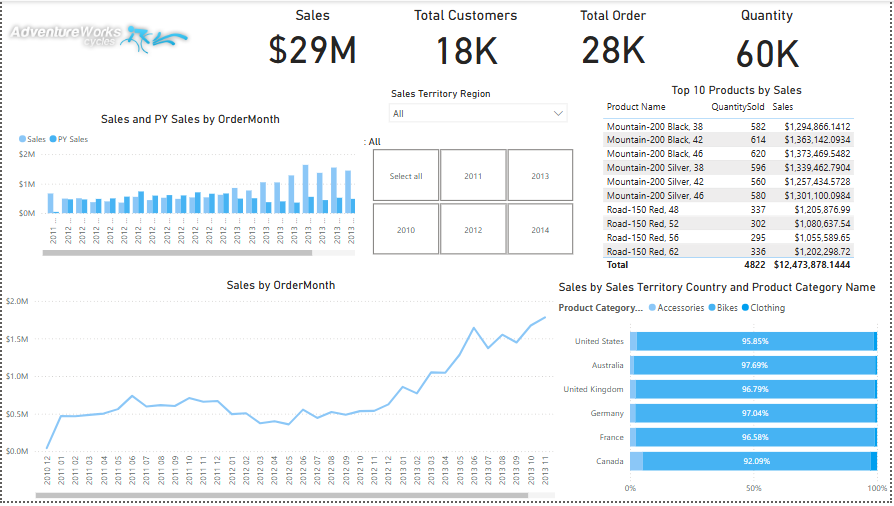

What the dashboard file says about the page in this screenshot:
{"tool":"powerbi","page":{"name":"Sales Dashboard","canvas":[1280,720],"ordinal":0},"visuals":[{"type":"image","box":[0,0,278.8,112.5],"z":0},{"type":"card","title":"Sales","fields":{"Values":["Calc.Sales"]},"box":[357.1,8.6,180,86.4],"z":1000},{"type":"card","title":"Total Order","fields":{"Values":["Calc.OrderCount"]},"box":[792,8.6,175.7,87.8],"z":2000},{"type":"card","title":"Quantity","fields":{"Values":["Calc.QuantitySold"]},"box":[1010.9,8.6,181.4,97.9],"z":3000},{"type":"tableEx","title":"Top 10 Products by Sales","fields":{"Values":["Product.EnglishProductName","Calc.QuantitySold","Calc.Sales"]},"box":[860,118.3,396.7,283.3],"z":4000},{"type":"lineChart","fields":{"Y":["Calc.Sales"],"Category":["Order Date.OrderMonth"]},"box":[0,398.3,803.3,321.7],"z":5000},{"type":"clusteredColumnChart","fields":{"Y":["Calc.Sales","Calc.PY Sales"],"Category":["Order Date.OrderMonth"]},"box":[18.3,160,505,211.7],"z":6000},{"type":"hundredPercentStackedBarChart","fields":{"Y":["Calc.Sales"],"Category":["Sales Territory.Sales Territory Country"],"Series":["Product.Product Category Name"]},"box":[796.1,401.8,483.8,318.2],"z":7000},{"type":"slicer","fields":{"Values":["Sales Territory.Sales Territory Region"]},"box":[546.7,120,276.7,68.3],"z":8000},{"type":"slicer","fields":{"Values":["Order Date.Calendar Year"]},"box":[508.3,188.3,338.3,183.3],"z":9000},{"type":"card","title":"Total Customers","fields":{"Values":["Count(Dim Customer.CustomerKey)"]},"box":[583.2,8.6,168.5,87.8],"z":10000},{"type":"qnaVisual","box":[1130,0,150,150],"z":11000}]}

Visuals, with their boxes in screenshot pixels (x1, y1, x2, y2), scaled from the page's 1280x720 canvas onto the 894x506 screenshot:
image: {"left": 0, "top": 0, "right": 195, "bottom": 79}
"Sales" card: {"left": 249, "top": 6, "right": 375, "bottom": 67}
"Total Order" card: {"left": 553, "top": 6, "right": 676, "bottom": 68}
"Quantity" card: {"left": 706, "top": 6, "right": 833, "bottom": 75}
"Top 10 Products by Sales" tableEx: {"left": 601, "top": 83, "right": 878, "bottom": 282}
lineChart - Calc.Sales x Order Date.OrderMonth: {"left": 0, "top": 280, "right": 561, "bottom": 505}
clusteredColumnChart - Calc.Sales x Calc.PY Sales: {"left": 13, "top": 112, "right": 365, "bottom": 261}
hundredPercentStackedBarChart - Calc.Sales x Sales Territory.Sales Territory Country: {"left": 556, "top": 282, "right": 893, "bottom": 505}
slicer - Sales Territory.Sales Territory Region: {"left": 382, "top": 84, "right": 575, "bottom": 132}
slicer - Order Date.Calendar Year: {"left": 355, "top": 132, "right": 591, "bottom": 261}
"Total Customers" card: {"left": 407, "top": 6, "right": 525, "bottom": 68}
qnaVisual: {"left": 789, "top": 0, "right": 893, "bottom": 105}
